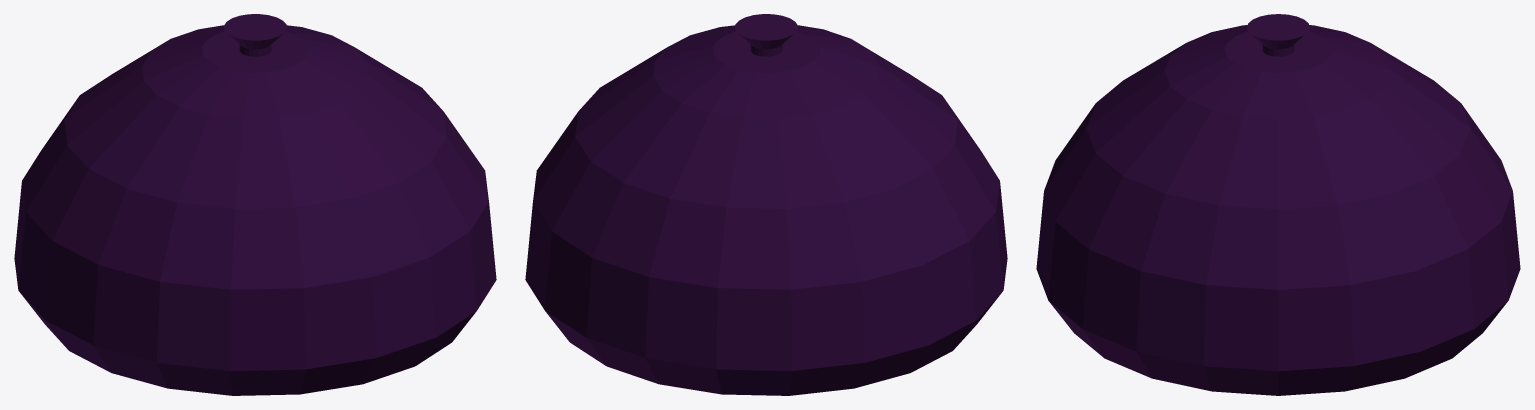
File: Trashbag.fbx
3 renders of one model, left to right at view 1: azimuth 30°, elevation 25°; view 2: azimuth 150°, elevation 25°; view 3: azimuth 270°, elevation 25°, orthographic.
Parts seen in each view (by area): view 1: Trashbag; view 2: Trashbag; view 3: Trashbag.
Part boxes in pixels (x1=…): Trashbag: x1=14, y1=14, x2=496, y2=395; Trashbag: x1=525, y1=14, x2=1007, y2=395; Trashbag: x1=1036, y1=14, x2=1520, y2=395.
Bounding box in the file's own units: 1.15 × 0.765 × 1.15.
